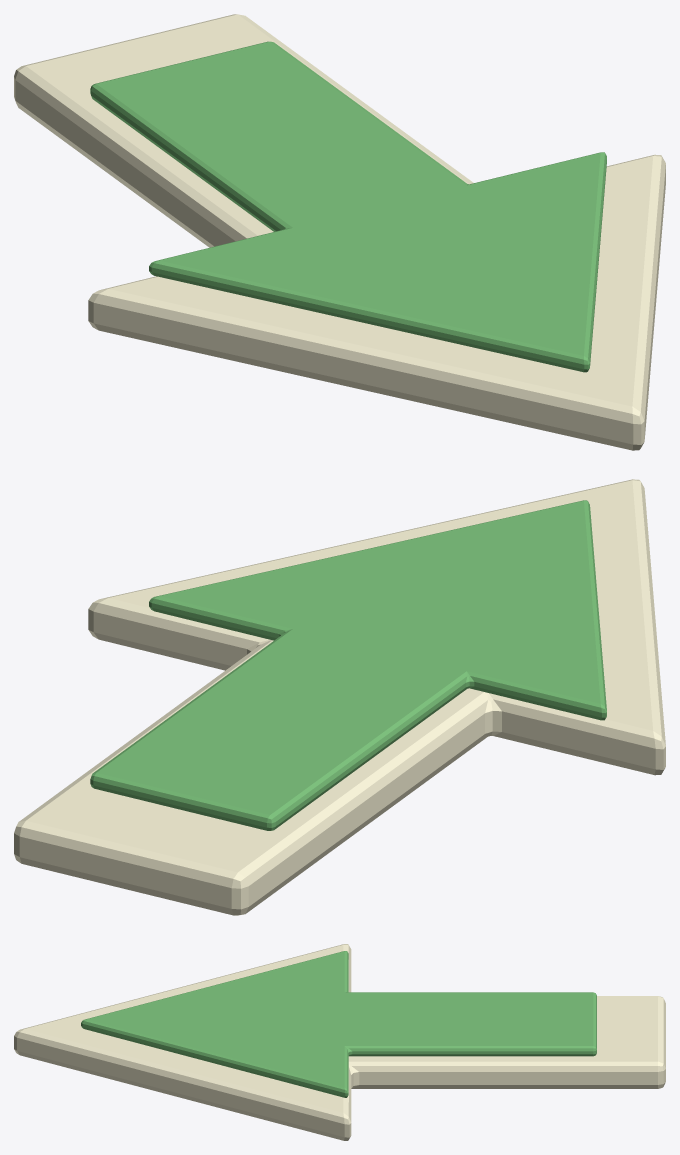
The model's file is entry-arrow.glb.
3 renders of one model, top to bottom at view 1: azimuth 30°, elevation 25°; view 2: azimuth 150°, elevation 25°; view 3: azimuth 270°, elevation 25°, orthographic. The views are drawn at different scales.
Visible parts, largest first — view 1: entry-arrow; view 2: entry-arrow; view 3: entry-arrow.
Boxes of the visible parts, x1,y1,x2,y2 form: entry-arrow: [14, 14, 665, 450]; entry-arrow: [14, 479, 665, 915]; entry-arrow: [14, 944, 665, 1140].
Bounding box in the file's own units: 0.6406 × 0.062 × 0.9945.
